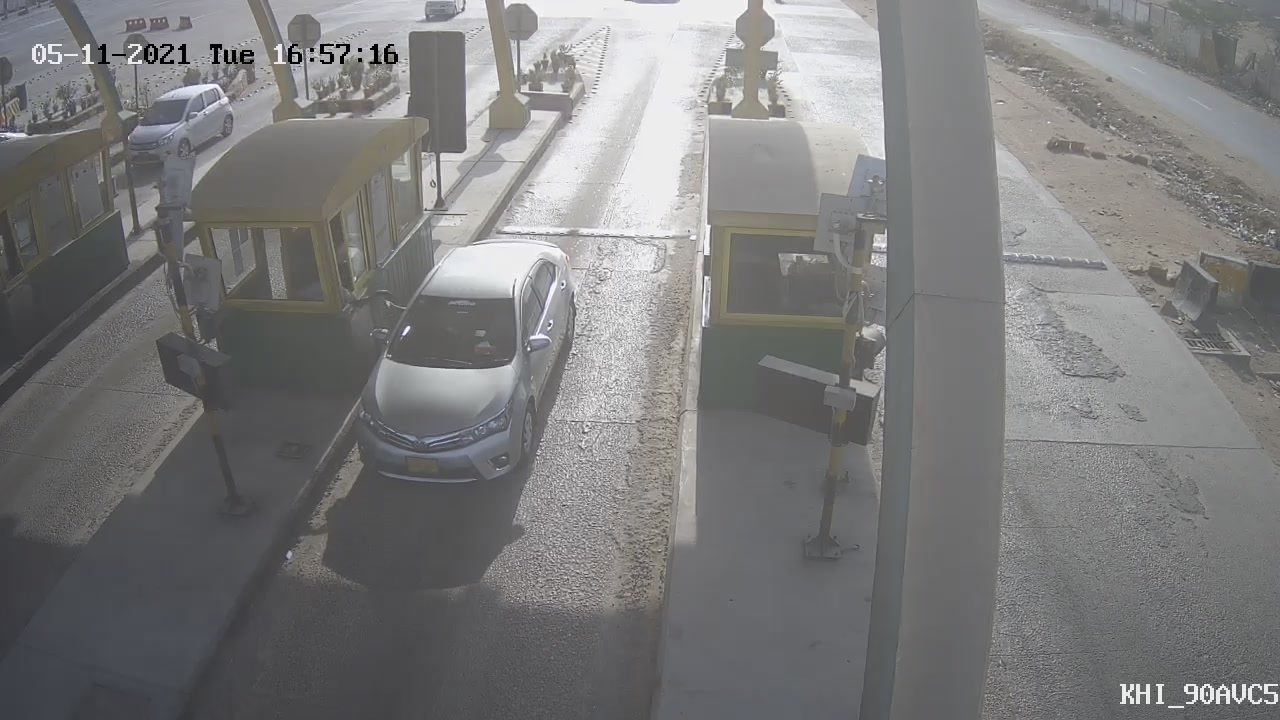F1: (326, 213, 596, 514)
